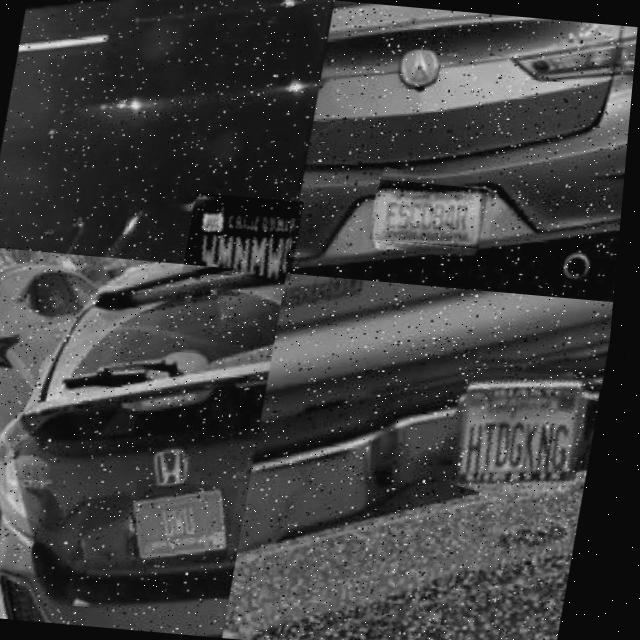LicensePlate: (464, 378, 593, 485), (195, 197, 307, 279), (144, 486, 239, 557), (376, 186, 487, 242)
